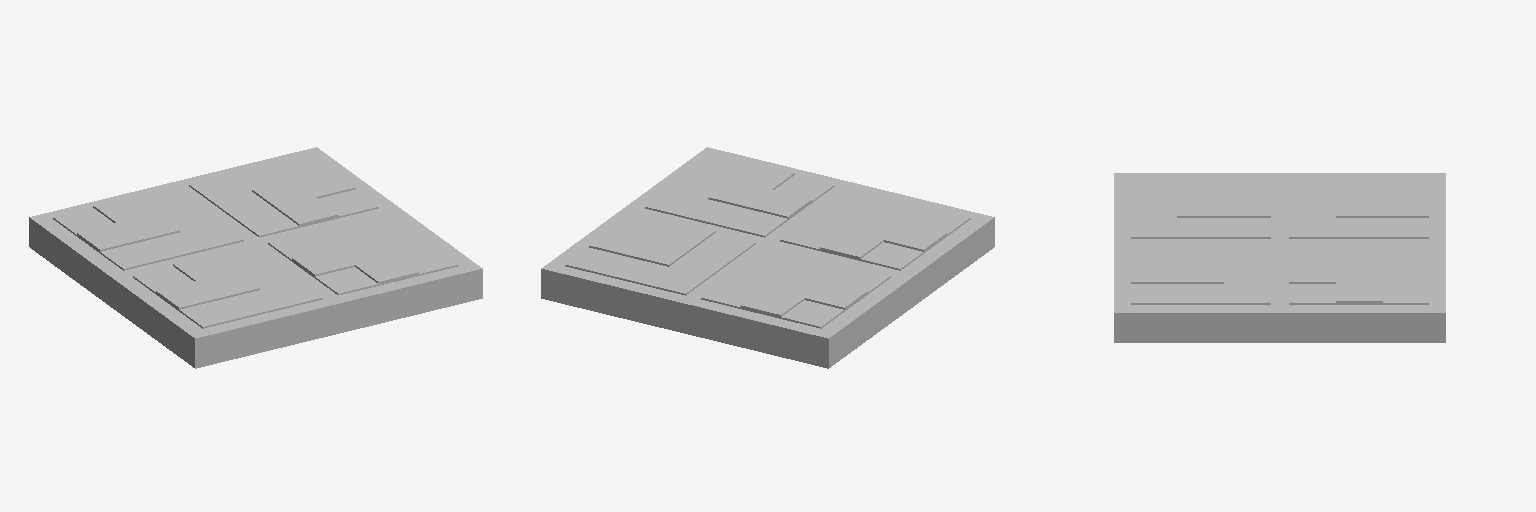
The model's file is door.obj.
3 views of the same model, side by side, from view 1: azimuth 30°, elevation 25°; view 2: azimuth 150°, elevation 25°; view 3: azimuth 270°, elevation 25° (orthographic).
Parts seen in each view (by area): view 1: Cube.001; view 2: Cube.001; view 3: Cube.001.
Boxes of the visible parts, <box> form: Cube.001: <box>29,147,482,368</box>; Cube.001: <box>541,147,994,368</box>; Cube.001: <box>1114,173,1445,342</box>.
Size of the model in its own units: 0.4 by 0.0451 by 0.4.